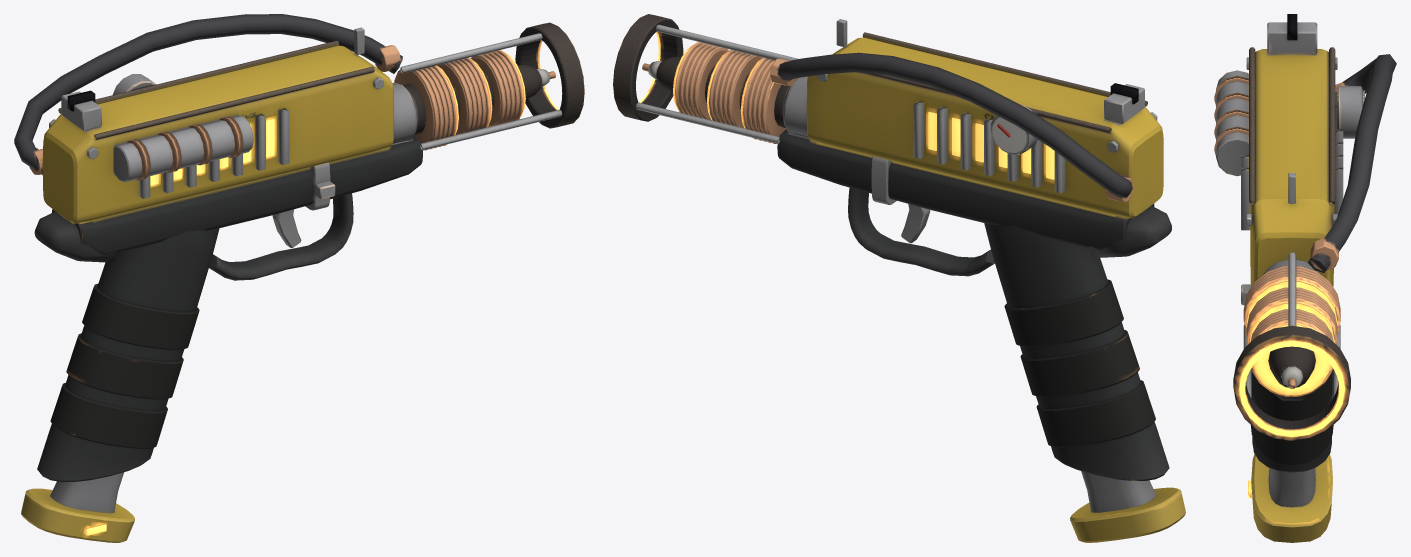
File: slagger.gltf
3 views of the same model, side by side, from view 1: azimuth 30°, elevation 25°; view 2: azimuth 150°, elevation 25°; view 3: azimuth 270°, elevation 25° (orthographic). The views are drawn at different scales.
Visible parts, largest first — view 1: body, magazine, glow; view 2: body, magazine, glow; view 3: body, magazine, glow.
Boxes of the visible parts, <box> form: body: <box>14,14,584,481</box>; magazine: <box>21,472,134,542</box>; glow: <box>85,40,558,535</box>; body: <box>613,14,1171,480</box>; magazine: <box>1070,471,1185,542</box>; glow: <box>639,32,1054,179</box>; body: <box>1214,14,1396,472</box>; magazine: <box>1251,454,1332,542</box>; glow: <box>1239,281,1345,497</box>.
Bounding box in the file's own units: 0.2762 × 0.2266 × 0.0728.
Materials: 1 (1 with a texture image).
